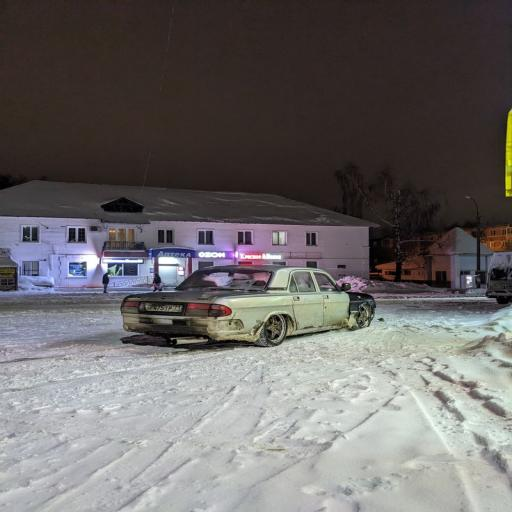bottle: (122, 265, 375, 346)
laptop: (153, 273, 162, 291), (103, 272, 109, 292)
sofa: (163, 284, 178, 290)
